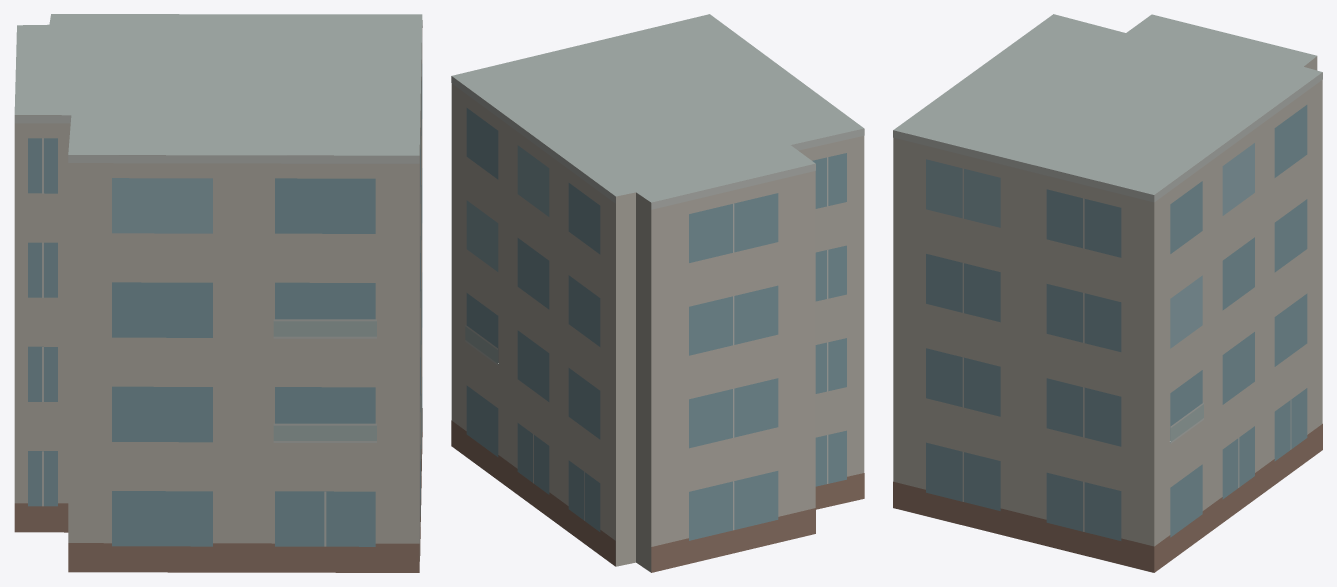
Rendered from survey-upis-32746410.glb.
The picture shows the model from 3 angles, left to right: view 1: azimuth 30°, elevation 25°; view 2: azimuth 150°, elevation 25°; view 3: azimuth 270°, elevation 25°; orthographic projection. The views are drawn at different scales.
Parts seen in each view (by area): view 1: survey-upis-32746410.tmp; view 2: survey-upis-32746410.tmp; view 3: survey-upis-32746410.tmp.
Boxes of the visible parts, x1,y1,x2,y2 form: survey-upis-32746410.tmp: (14,14,422,572); survey-upis-32746410.tmp: (451,14,864,572); survey-upis-32746410.tmp: (893,14,1322,572).
Bounding box in the file's own units: 12.86 × 12.5 × 12.89.
